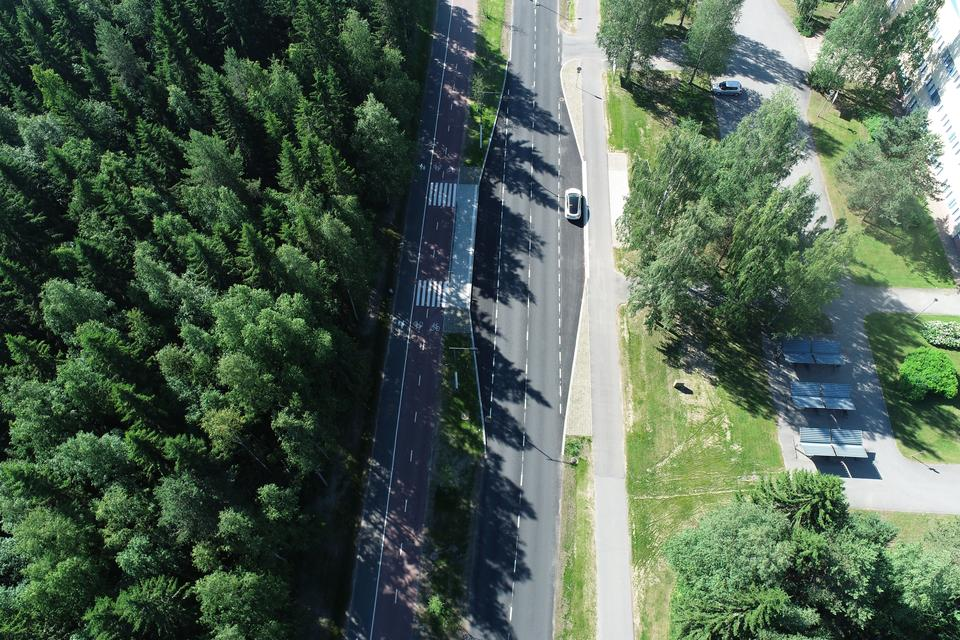intersection: (495, 15, 628, 78)
